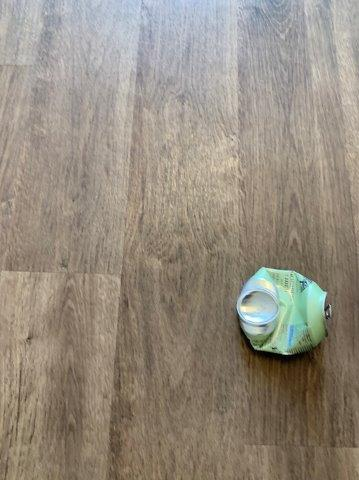kaleng: (238, 267, 327, 352)
